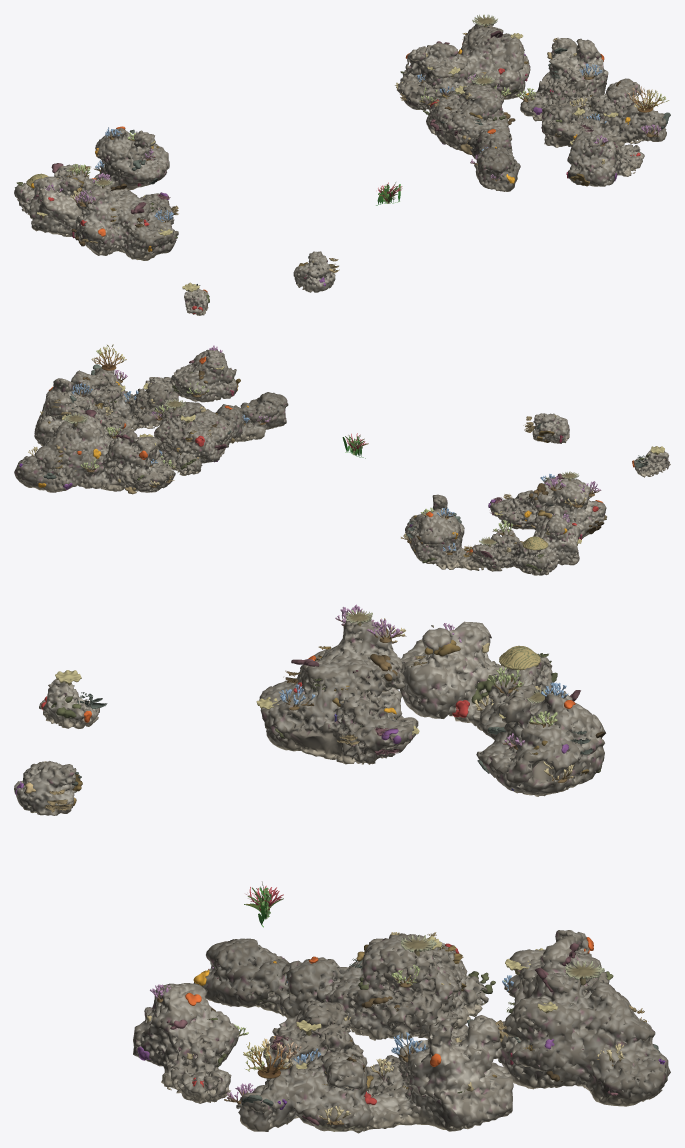
Rendered from reef-habitat.glb.
3 views of the same model, one above another, from view 1: azimuth 30°, elevation 25°; view 2: azimuth 150°, elevation 25°; view 3: azimuth 270°, elevation 25° (orthographic). The views are drawn at different scales.
Visible parts, largest first — view 1: Habitat_Rock_EastTerraces, Habitat_Rock_EastMassif, Habitat_Rock_WestMassif, Habitat_Rock_EastChannel, Habitat_Rock_WestTerraces, Habitat_Rock_EastOutcrops, Habitat_Rock_WestOutcrops, Habitat_Branching_EastTerraces, Habitat_Branching_WestTerraces, Habitat_Massive_WestTerraces, Habitat_Branching_WestMassif, Habitat_Massive_EastChannel (+2 smaller); view 2: Habitat_Rock_EastMassif, Habitat_Rock_WestMassif, Habitat_Rock_EastChannel, Habitat_Rock_EastTerraces, Habitat_Rock_WestTerraces, Habitat_Rock_EastOutcrops, Habitat_Rock_WestOutcrops, Habitat_Branching_EastTerraces, Habitat_Massive_WestMassif, Habitat_Branching_WestMassif, Habitat_Branching_WestTerraces, Habitat_Branching_EastMassif (+3 smaller); view 3: Habitat_Rock_EastTerraces, Habitat_Rock_EastMassif, Habitat_Rock_EastChannel, Habitat_Rock_WestMassif, Habitat_Rock_WestTerraces, Habitat_Rock_EastOutcrops, Habitat_Rock_WestOutcrops, Habitat_Branching_EastTerraces, Habitat_Massive_WestMassif, Habitat_Branching_WestMassif, Habitat_Branching_WestTerraces, Habitat_Massive_WestTerraces (+3 smaller).
Part boxes in pixels (bbox=[...]): Habitat_Rock_EastTerraces: bbox=[520, 38, 666, 147]; Habitat_Rock_EastMassif: bbox=[397, 24, 530, 110]; Habitat_Rock_WestMassif: bbox=[14, 128, 169, 236]; Habitat_Rock_EastChannel: bbox=[426, 84, 520, 191]; Habitat_Rock_WestTerraces: bbox=[74, 184, 178, 260]; Habitat_Rock_EastOutcrops: bbox=[567, 132, 644, 186]; Habitat_Rock_WestOutcrops: bbox=[184, 251, 335, 315]; Habitat_Branching_EastTerraces: bbox=[516, 63, 669, 137]; Habitat_Branching_WestTerraces: bbox=[70, 173, 173, 222]; Habitat_Massive_WestTerraces: bbox=[71, 183, 178, 246]; Habitat_Branching_WestMassif: bbox=[44, 127, 155, 192]; Habitat_Massive_EastChannel: bbox=[423, 94, 515, 154]; Habitat_Rock_EastMassif: bbox=[14, 413, 175, 492]; Habitat_Rock_WestMassif: bbox=[405, 494, 584, 575]; Habitat_Rock_EastChannel: bbox=[154, 392, 288, 475]; Habitat_Rock_EastTerraces: bbox=[34, 368, 178, 446]; Habitat_Rock_WestTerraces: bbox=[490, 477, 606, 538]; Habitat_Rock_EastOutcrops: bbox=[145, 349, 237, 402]; Habitat_Rock_WestOutcrops: bbox=[532, 413, 670, 477]; Habitat_Branching_EastTerraces: bbox=[72, 344, 162, 438]; Habitat_Massive_WestMassif: bbox=[406, 510, 573, 572]; Habitat_Branching_WestMassif: bbox=[401, 507, 569, 554]; Habitat_Branching_WestTerraces: bbox=[540, 471, 601, 507]; Habitat_Branching_EastMassif: bbox=[28, 413, 175, 487]; Habitat_Rock_EastTerraces: bbox=[236, 1000, 513, 1133]; Habitat_Rock_EastMassif: bbox=[498, 930, 670, 1106]; Habitat_Rock_EastChannel: bbox=[193, 933, 488, 1040]; Habitat_Rock_WestMassif: bbox=[399, 621, 605, 796]; Habitat_Rock_WestTerraces: bbox=[259, 619, 418, 764]; Habitat_Rock_EastOutcrops: bbox=[133, 983, 239, 1103]; Habitat_Rock_WestOutcrops: bbox=[14, 679, 99, 815]; Habitat_Branching_EastTerraces: bbox=[224, 1032, 427, 1125]; Habitat_Massive_WestMassif: bbox=[409, 640, 605, 779]; Habitat_Branching_WestMassif: bbox=[443, 623, 574, 782]; Habitat_Branching_WestTerraces: bbox=[278, 604, 406, 710]; Habitat_Massive_WestTerraces: bbox=[275, 646, 400, 755].
Size of what is drawn, in the model's own units: 32.6 by 3.7 by 19.62.
